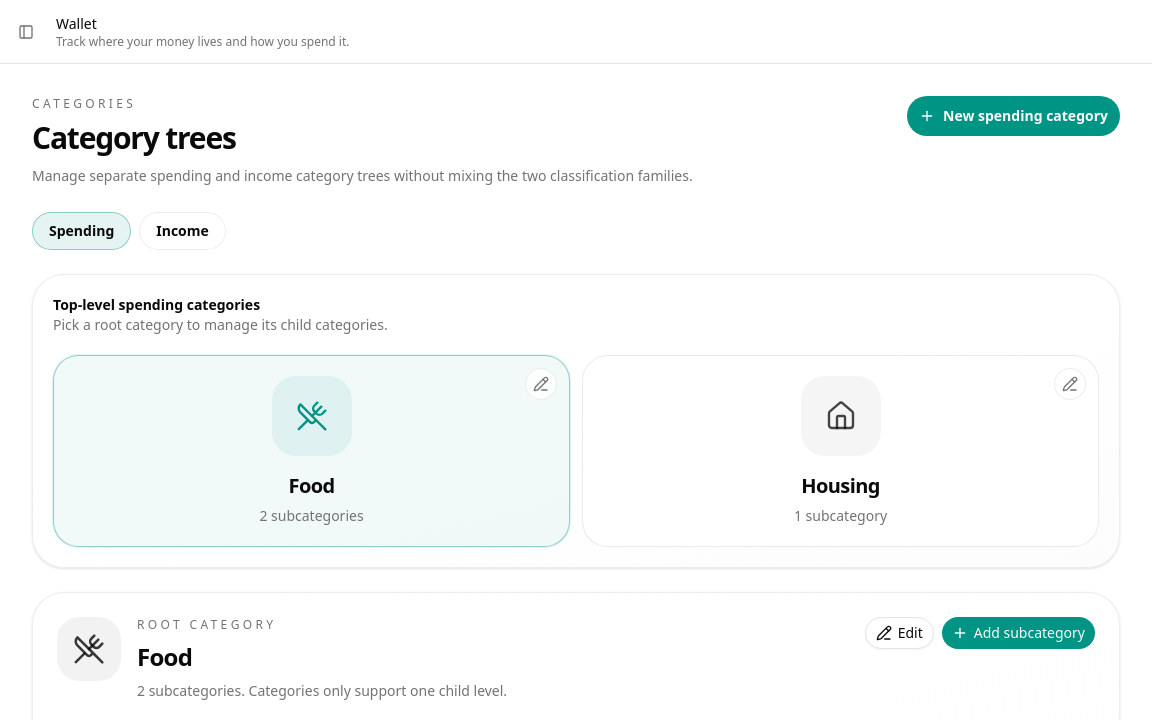
it: categories route › shows a duplicate-name error inline when the spending API rejects creation
The width and height of the screenshot is (1152, 720).
Click the button with aria-label "Add subcategory to Food": (1018, 633) [942,617,1095,649]
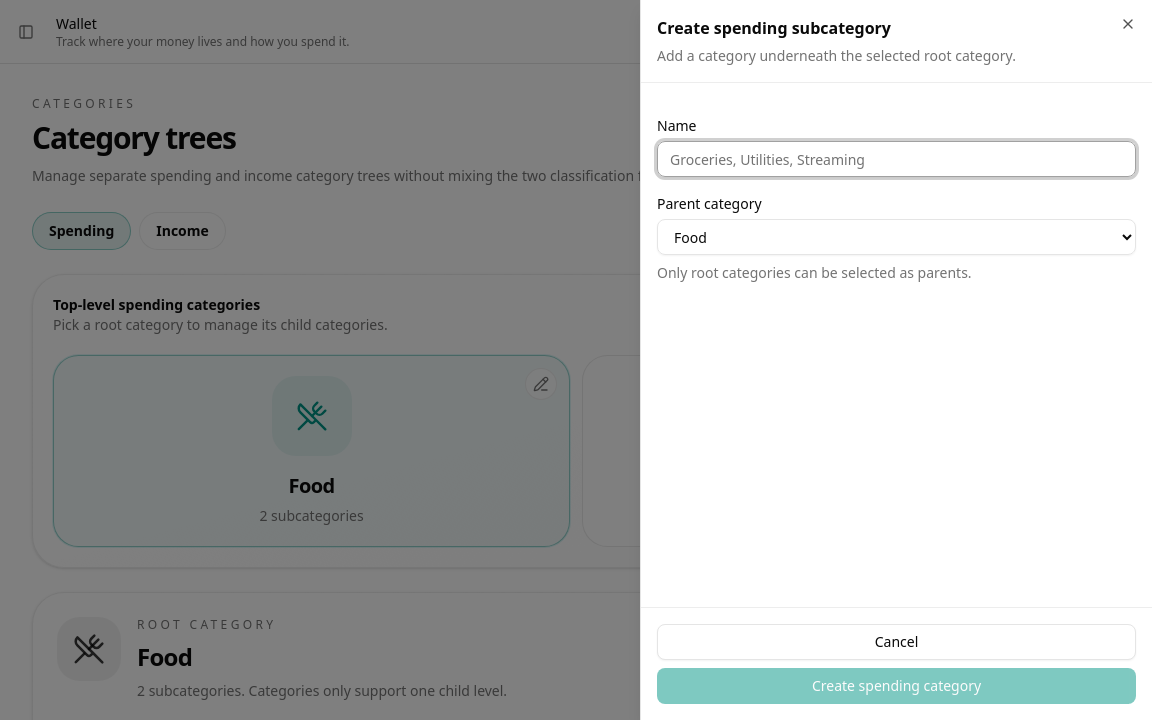
In the field labelled "Name": (896, 159) [657,141,1136,177], type "Restaurants"
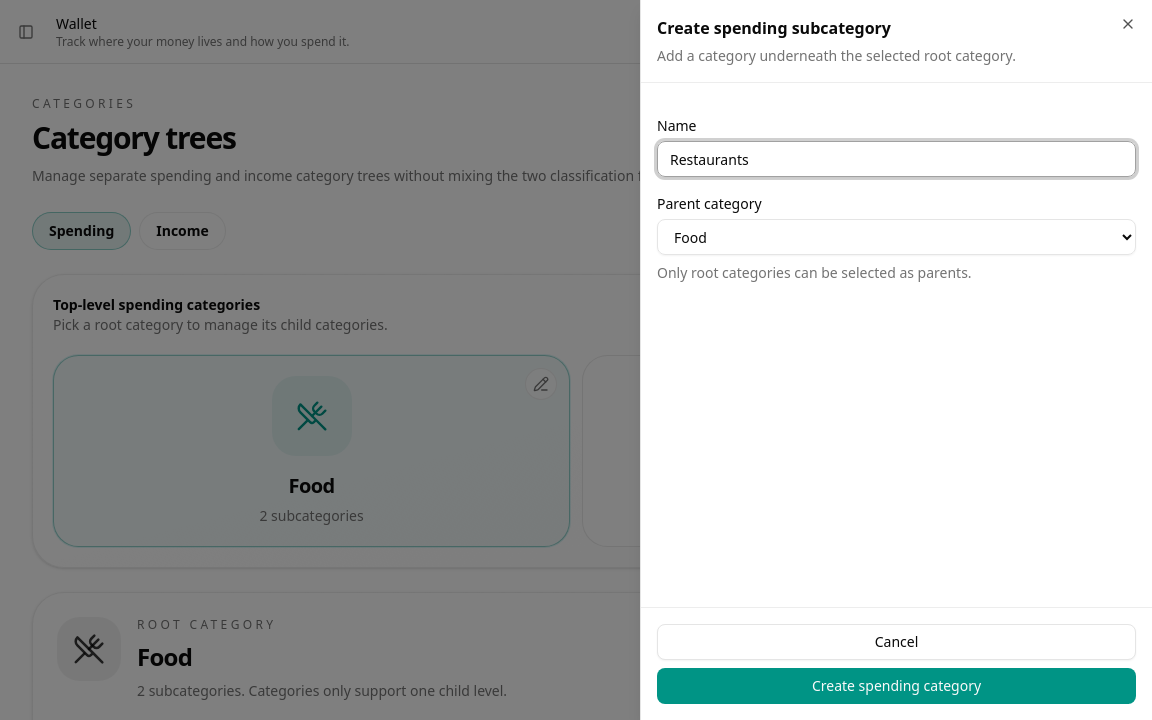
Click the button "Create spending category": (896, 686) [657,668,1136,704]
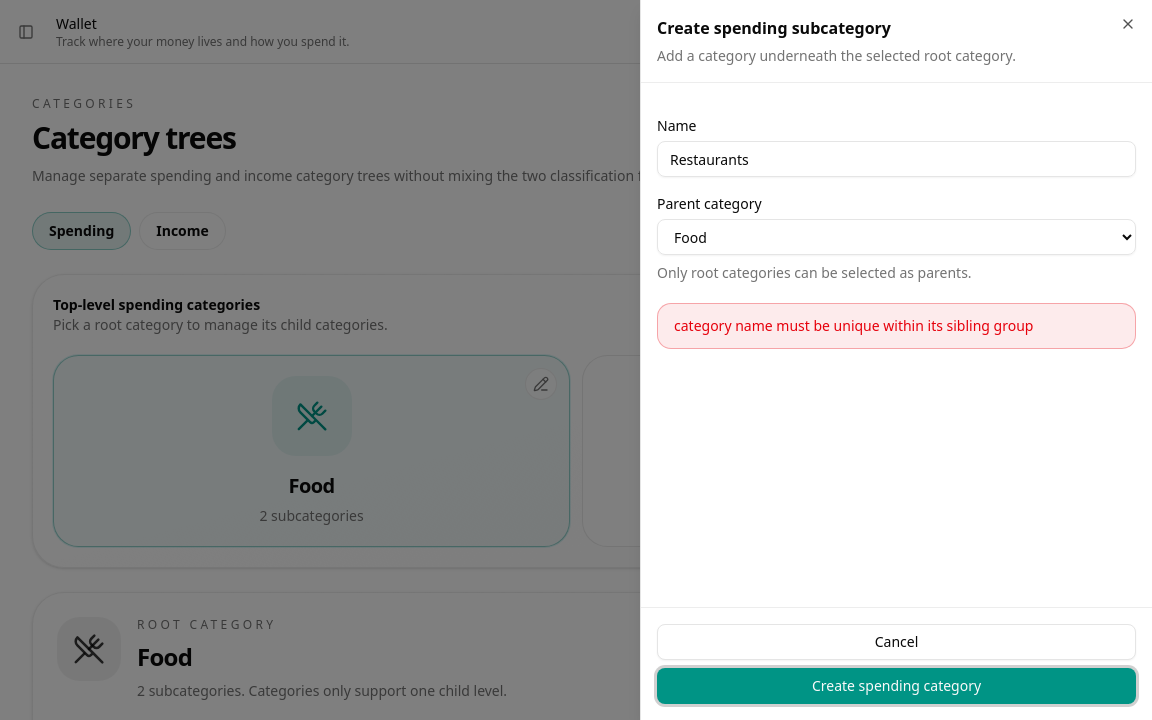
Now the text "category name must be unique within its sibling group" is shown, box [657,303,1136,349]
